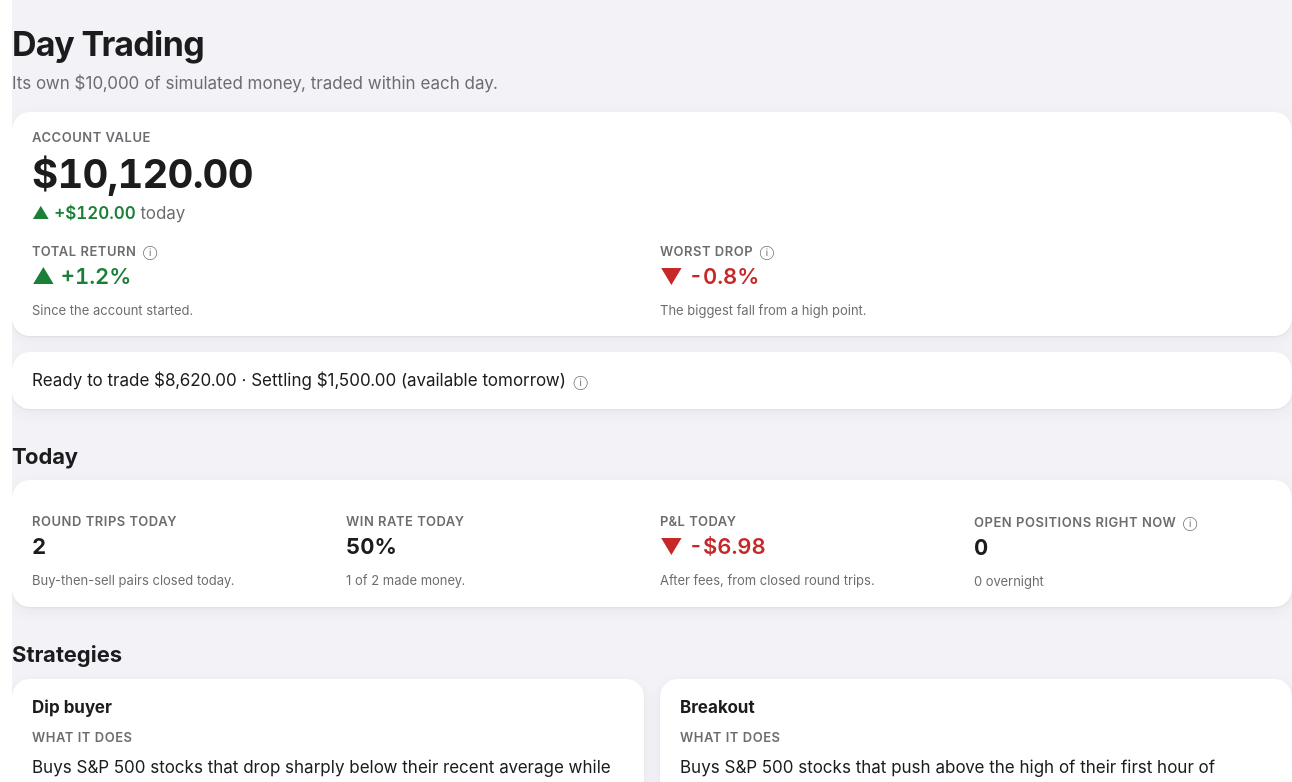
Day Trading page › shows the cash strip with the settling amount and a settlement tooltip
Check: the text "Ready to trade $8,620.00 · Settling $1,500.00 (available tomorrow)" is shown, box x1=32 y1=370 x2=566 y2=390
Click the button named "What is Settlement?": (581, 381) x1=571 y1=371 x2=591 y2=391
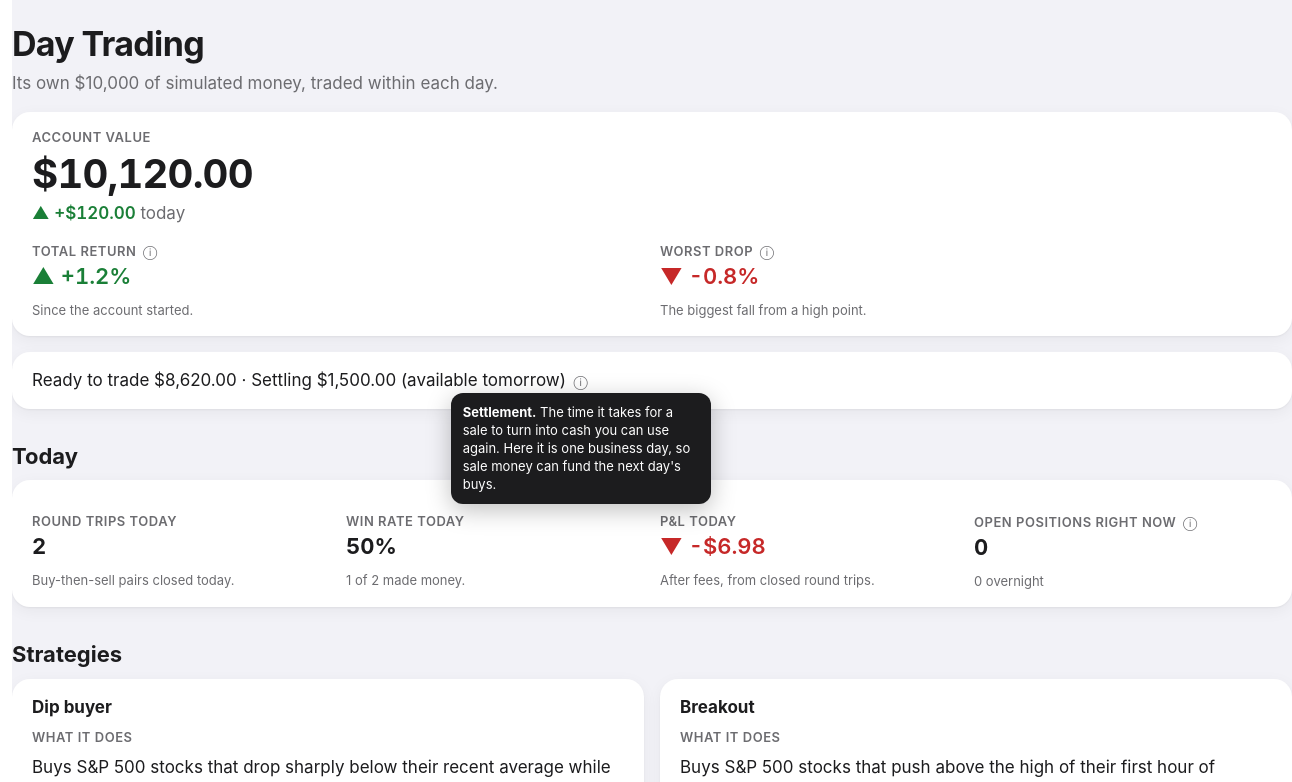
Check: the tooltip shows "business day", box x1=463 y1=404 x2=690 y2=492
